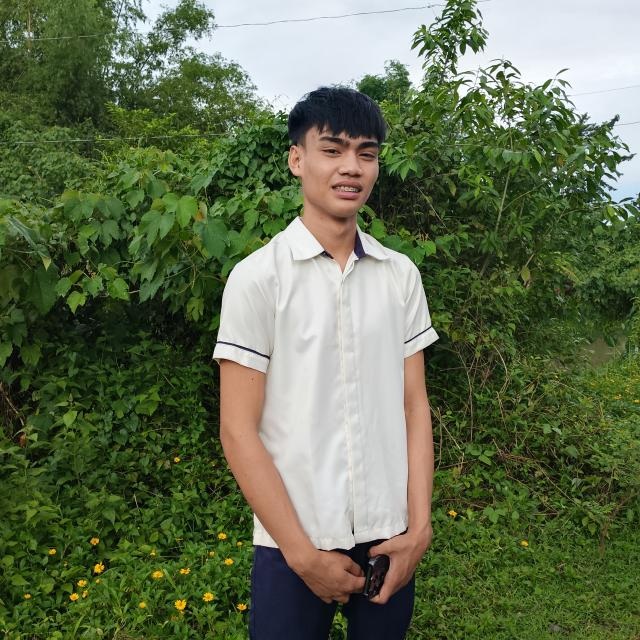education_male_uniform: (191, 195, 468, 562)
